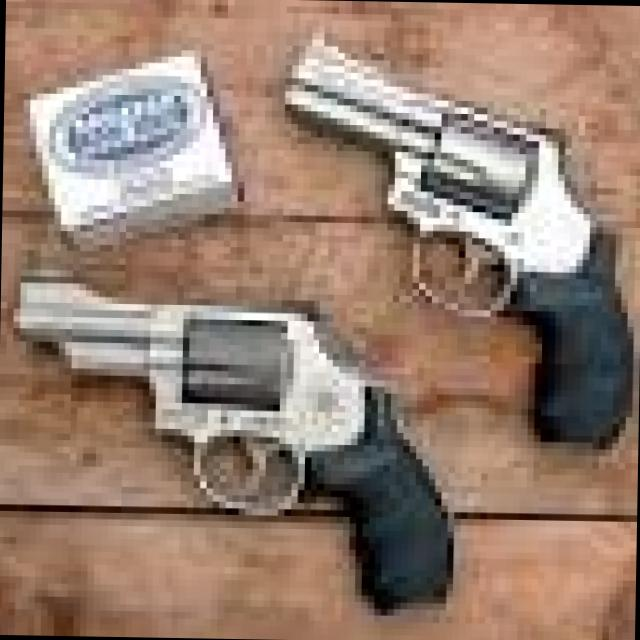Gun: (0, 242, 471, 596), (220, 64, 640, 417)
